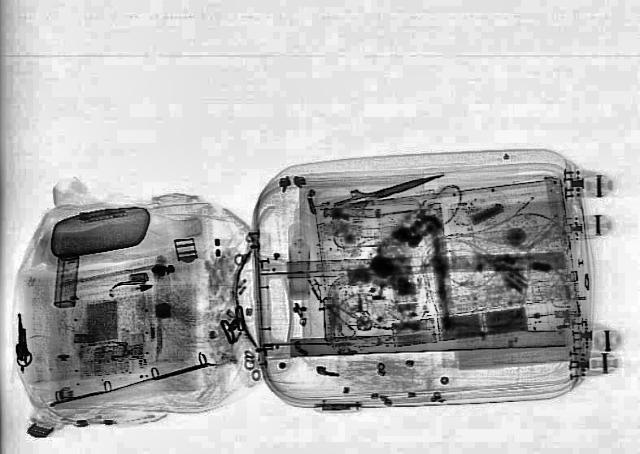Knife: (324, 166, 446, 212)
